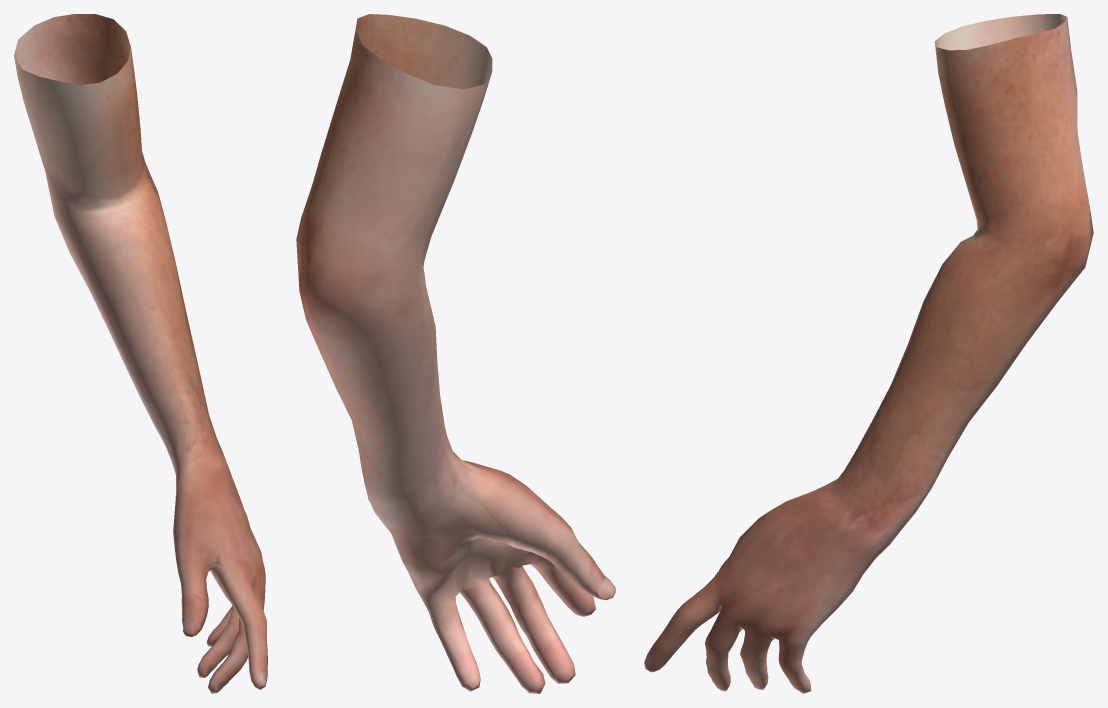
File: BrazoDer.obj
3 views of the same model, side by side, from view 1: azimuth 30°, elevation 25°; view 2: azimuth 150°, elevation 25°; view 3: azimuth 270°, elevation 25° (orthographic). The views are drawn at different scales.
Visible parts, largest first — view 1: Object_12; view 2: Object_12; view 3: Object_12.
Boxes of the visible parts, x1,y1,x2,y2 form: Object_12: (14,14,267,693); Object_12: (296,14,615,693); Object_12: (644,14,1093,693).
Size of the model in its own units: 0.2622 by 1 by 0.6143.
Materials: 1 (1 with a texture image).
